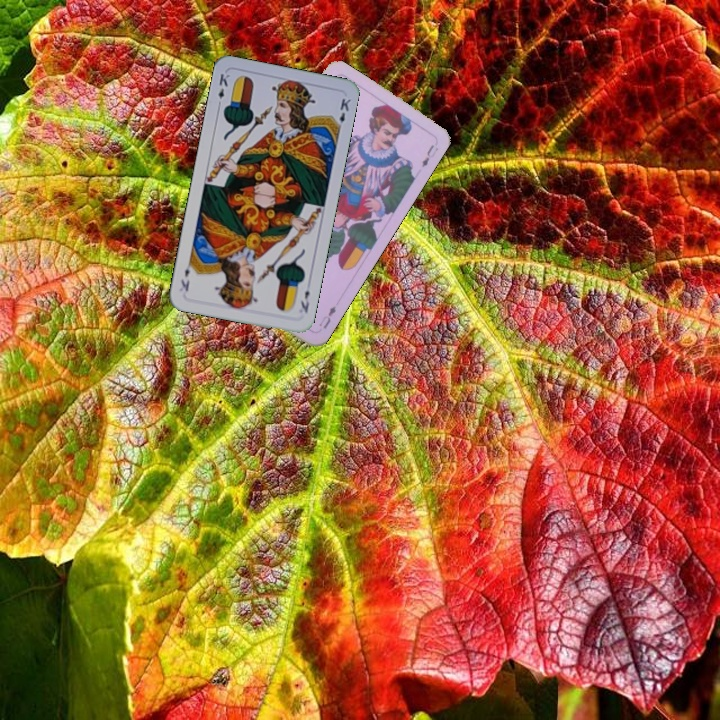EK: (213, 69, 232, 110), (296, 286, 312, 315)
EU: (315, 301, 339, 332)
